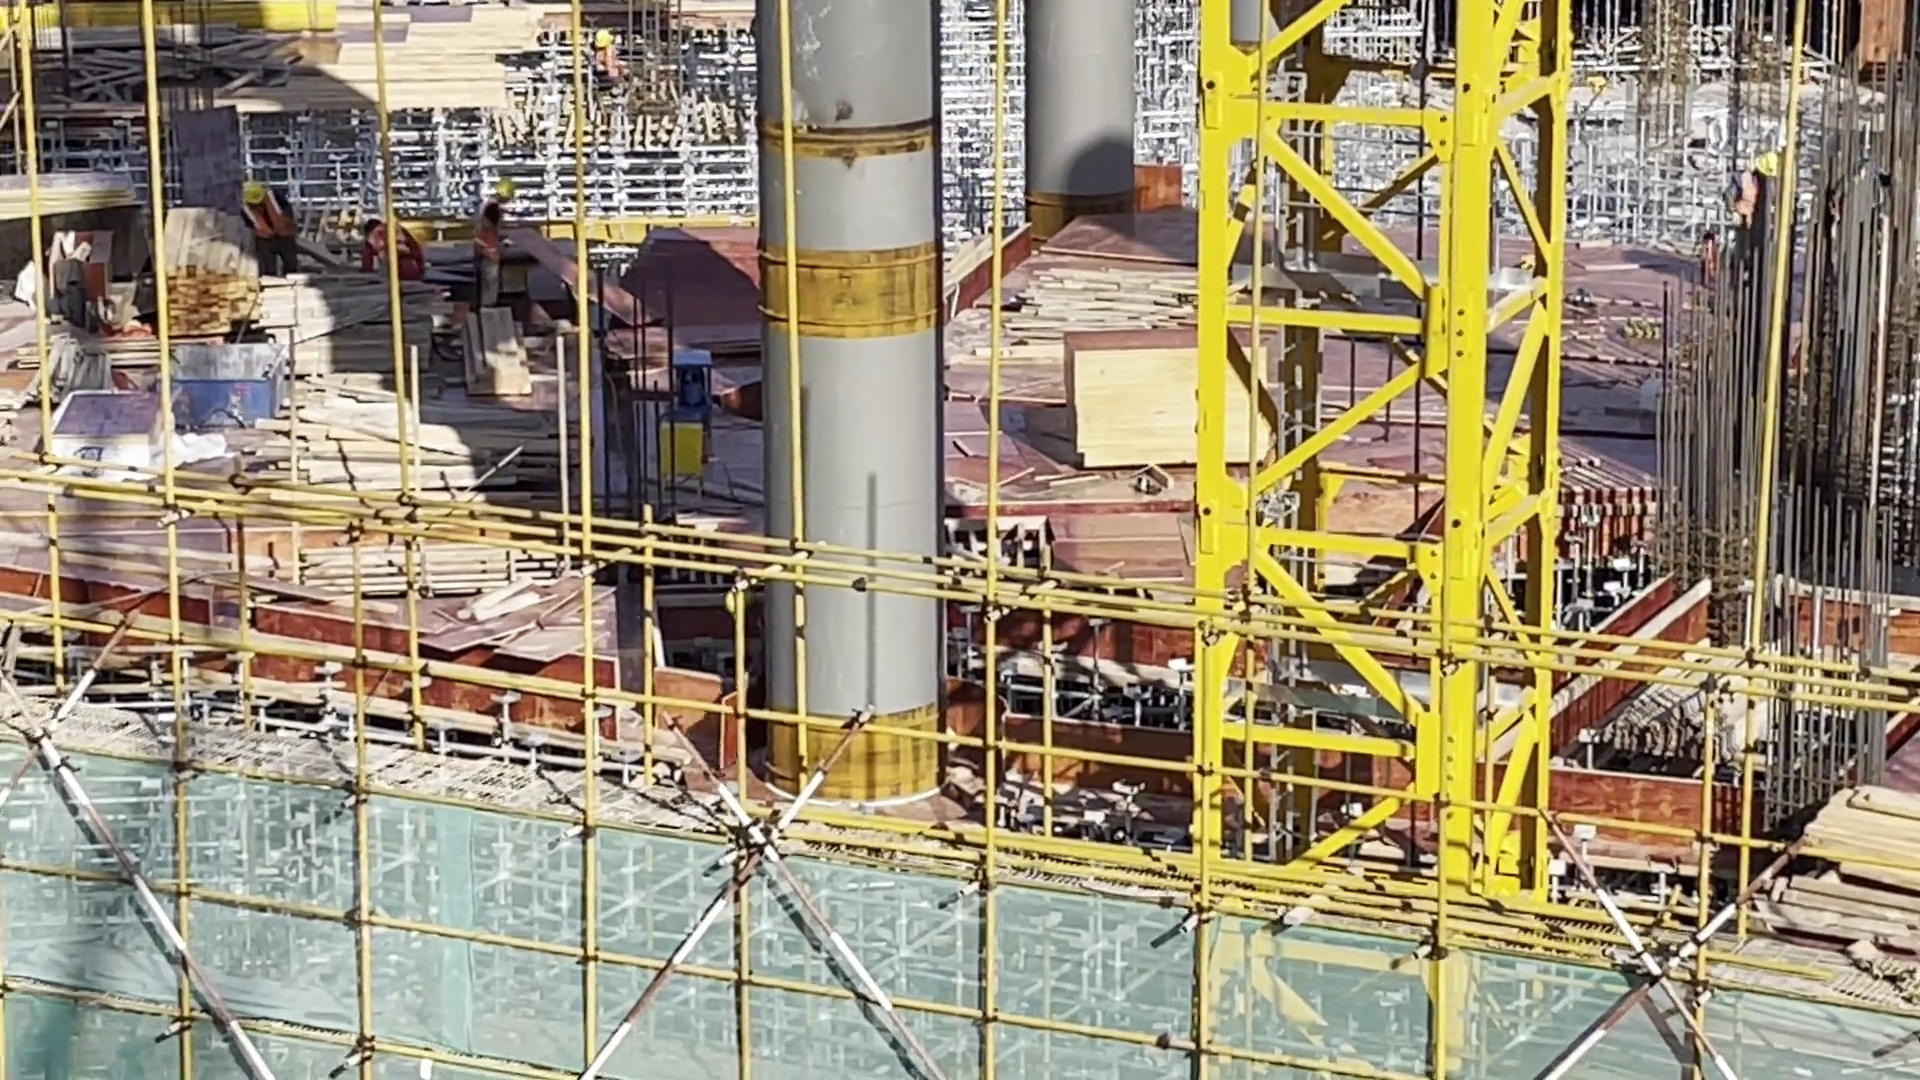helmet: (240, 179, 271, 208), (410, 225, 437, 253), (489, 176, 515, 203), (594, 26, 614, 51)
person: (470, 173, 518, 330), (238, 174, 300, 288), (354, 205, 427, 293), (590, 27, 619, 113)
vest: (240, 197, 293, 245), (474, 199, 506, 275), (366, 220, 408, 265)
